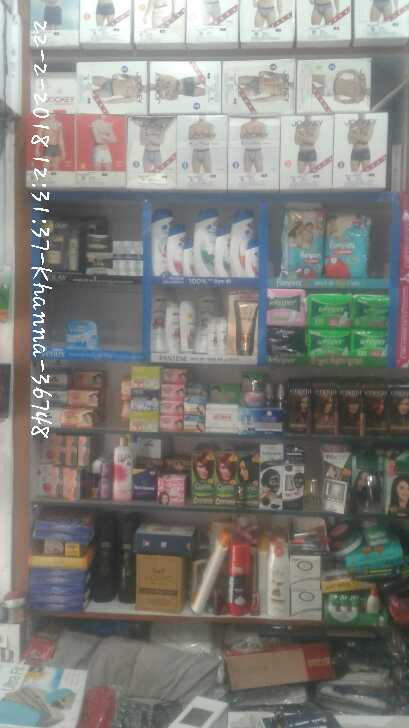gillete: (226, 542, 250, 611)
venus: (66, 317, 98, 345)
